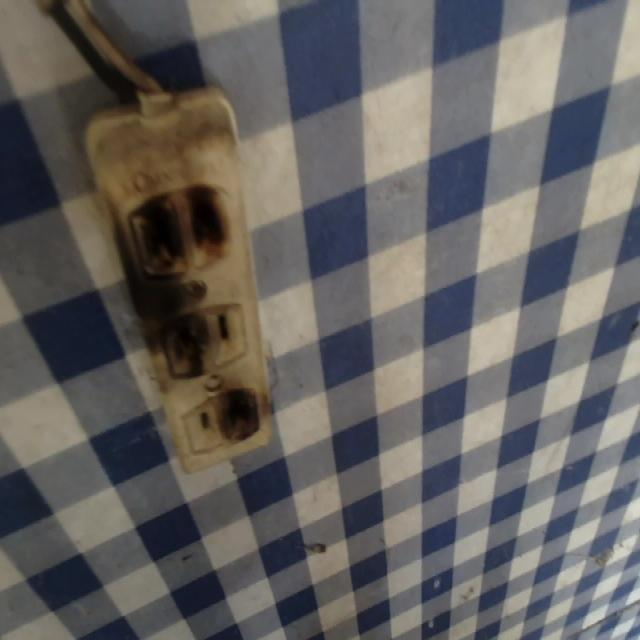-: (123, 176, 241, 272), (143, 311, 220, 392), (205, 383, 266, 452)
